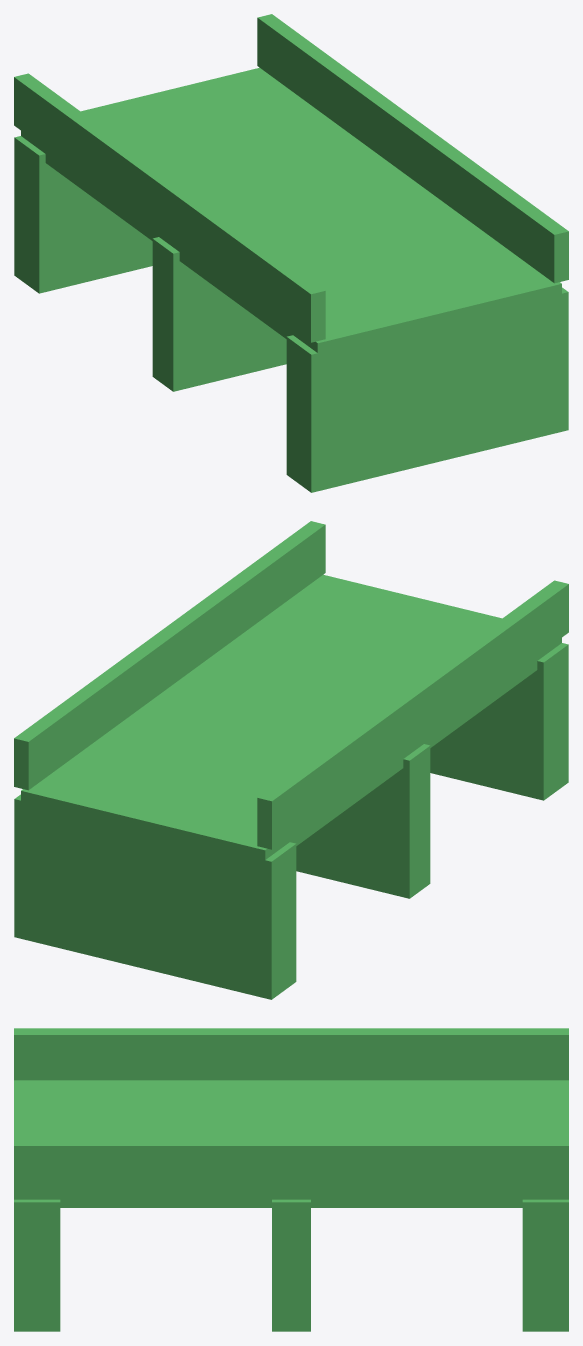
The model's file is bridge_stone_12x6m_collision.glb.
The picture shows the model from 3 angles, top to bottom: view 1: azimuth 30°, elevation 25°; view 2: azimuth 150°, elevation 25°; view 3: azimuth 270°, elevation 25°; orthographic projection. The views are drawn at different scales.
Visible parts, largest first — view 1: bridge_stone_12x6m_deck-col, bridge_stone_12x6m_abutment_a-col, bridge_stone_12x6m_left_parapet-col, bridge_stone_12x6m_right_parapet-col, bridge_stone_12x6m_abutment_b-col, bridge_stone_12x6m_central_pier-col; view 2: bridge_stone_12x6m_deck-col, bridge_stone_12x6m_abutment_b-col, bridge_stone_12x6m_left_parapet-col, bridge_stone_12x6m_right_parapet-col, bridge_stone_12x6m_abutment_a-col, bridge_stone_12x6m_central_pier-col; view 3: bridge_stone_12x6m_deck-col, bridge_stone_12x6m_left_parapet-col, bridge_stone_12x6m_right_parapet-col, bridge_stone_12x6m_abutment_a-col, bridge_stone_12x6m_abutment_b-col, bridge_stone_12x6m_central_pier-col.
Part boxes in pixels (<box>): bridge_stone_12x6m_deck-col: <box>21,67,561,361</box>; bridge_stone_12x6m_abutment_a-col: <box>286,287,568,492</box>; bridge_stone_12x6m_left_parapet-col: <box>14,73,325,342</box>; bridge_stone_12x6m_right_parapet-col: <box>257,14,568,283</box>; bridge_stone_12x6m_abutment_b-col: <box>14,136,152,293</box>; bridge_stone_12x6m_central_pier-col: <box>152,237,286,391</box>; bridge_stone_12x6m_deck-col: <box>21,574,561,868</box>; bridge_stone_12x6m_abutment_b-col: <box>14,794,296,999</box>; bridge_stone_12x6m_left_parapet-col: <box>257,580,568,849</box>; bridge_stone_12x6m_right_parapet-col: <box>14,521,325,790</box>; bridge_stone_12x6m_abutment_a-col: <box>430,643,568,800</box>; bridge_stone_12x6m_central_pier-col: <box>296,744,430,898</box>; bridge_stone_12x6m_deck-col: <box>14,1080,568,1207</box>; bridge_stone_12x6m_left_parapet-col: <box>14,1028,568,1080</box>; bridge_stone_12x6m_right_parapet-col: <box>14,1139,568,1191</box>; bridge_stone_12x6m_abutment_a-col: <box>14,1199,60,1331</box>; bridge_stone_12x6m_abutment_b-col: <box>522,1199,568,1331</box>; bridge_stone_12x6m_central_pier-col: <box>272,1199,310,1331</box>.
Size of the model in its own units: 6.02 by 4.43 by 12.
